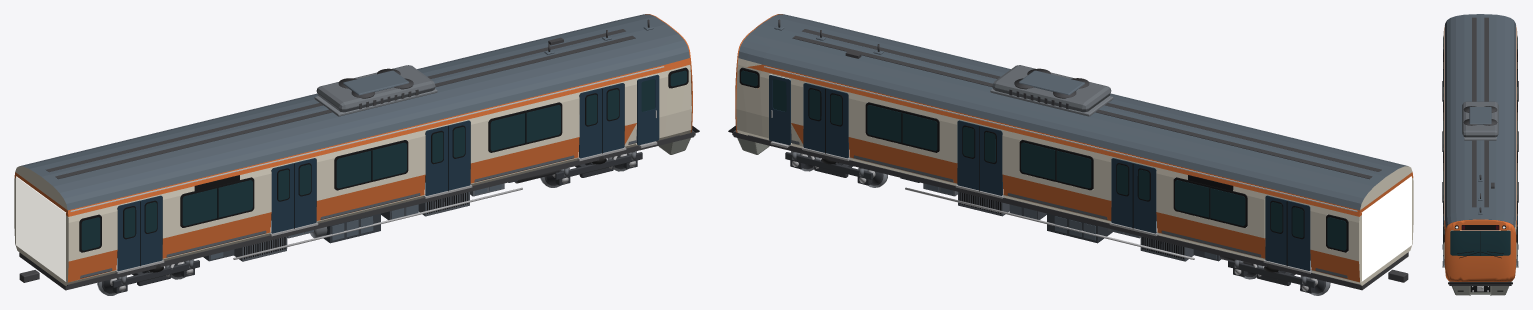
The model's file is original.glb.
3 renders of one model, left to right at view 1: azimuth 30°, elevation 25°; view 2: azimuth 150°, elevation 25°; view 3: azimuth 270°, elevation 25°, orthographic. The views are drawn at different scales.
Visible parts, largest first — view 1: body, bogieBack, bogieFront; view 2: body, bogieFront, bogieBack; view 3: body.
Part boxes in pixels (left/top/right/bottom): body: left=14, top=14, right=699, bottom=290; bogieBack: left=97, top=259, right=194, bottom=295; bogieFront: left=540, top=151, right=637, bottom=187; body: left=728, top=14, right=1413, bottom=290; bogieFront: left=790, top=151, right=887, bottom=187; bogieBack: left=1233, top=260, right=1330, bottom=295; body: left=1442, top=14, right=1518, bottom=295.
Bounding box in the file's own units: 20.39 × 4.12 × 3.07.
